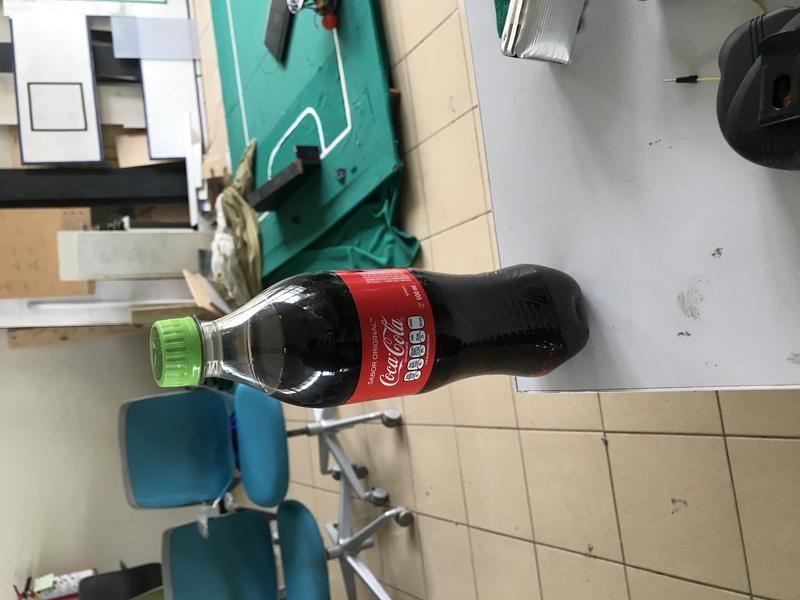coca_cola: (149, 264, 589, 409)
